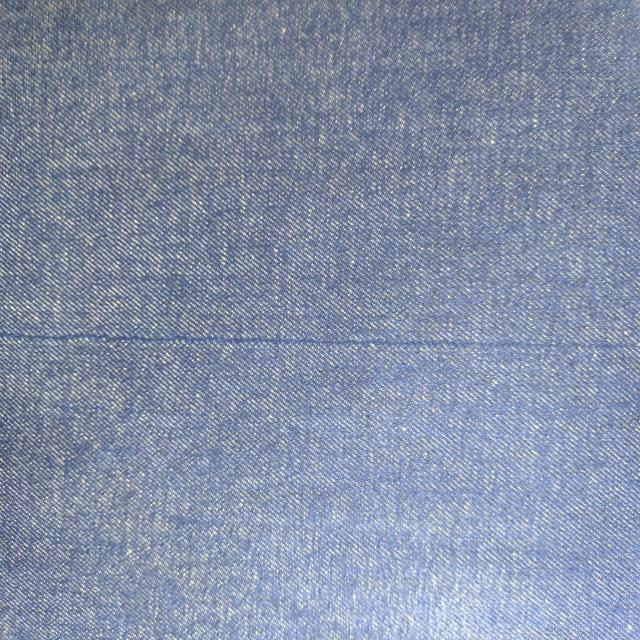Line: (0, 329, 640, 350)
